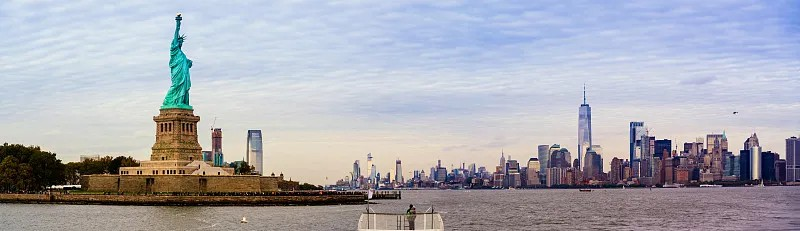SL: (150, 13, 202, 160)
